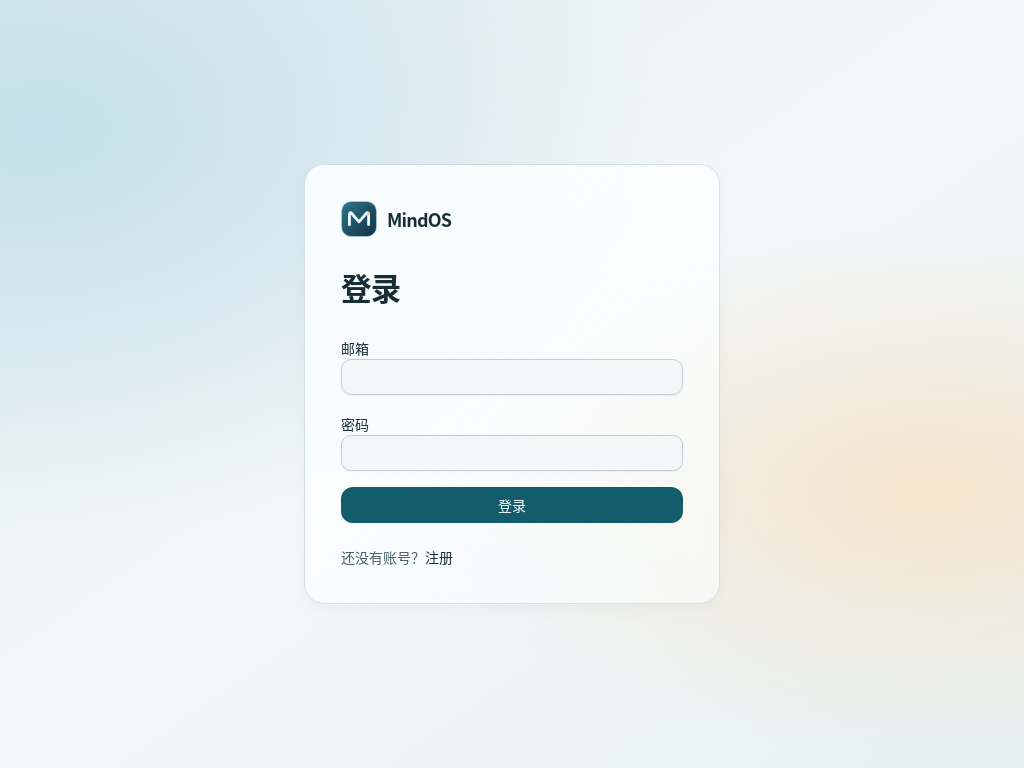
Test: 登录、注册与路由守卫 › 登录成功后回到原来要去的页面
Type "alice@example.com" into the field labelled "邮箱" at (512, 377), box [341,359,683,395]
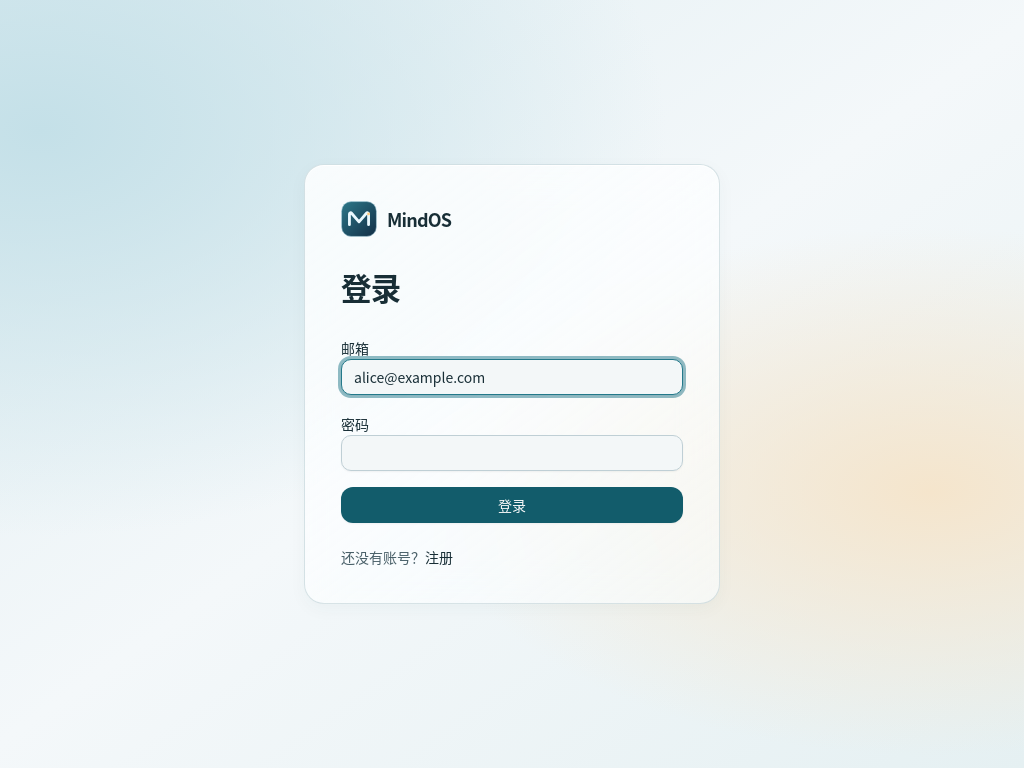
Type "password-123" into the password field labelled "密码" at (512, 453), box [341,435,683,471]
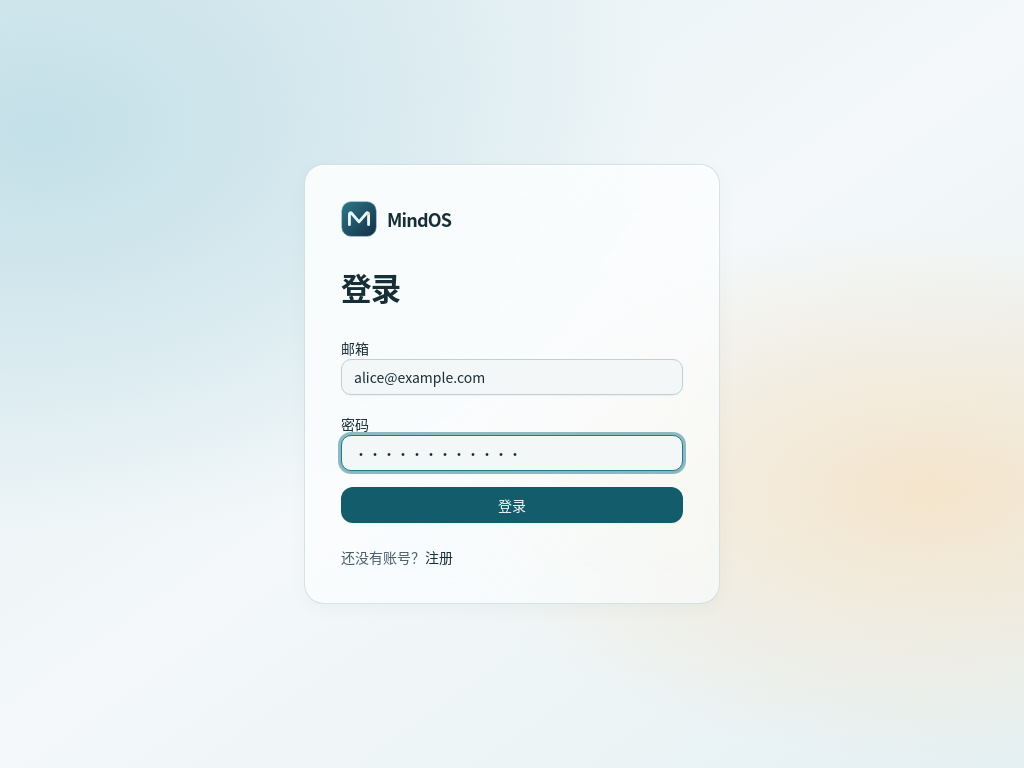
Click the button "登录" at (512, 505), box [341,487,683,523]
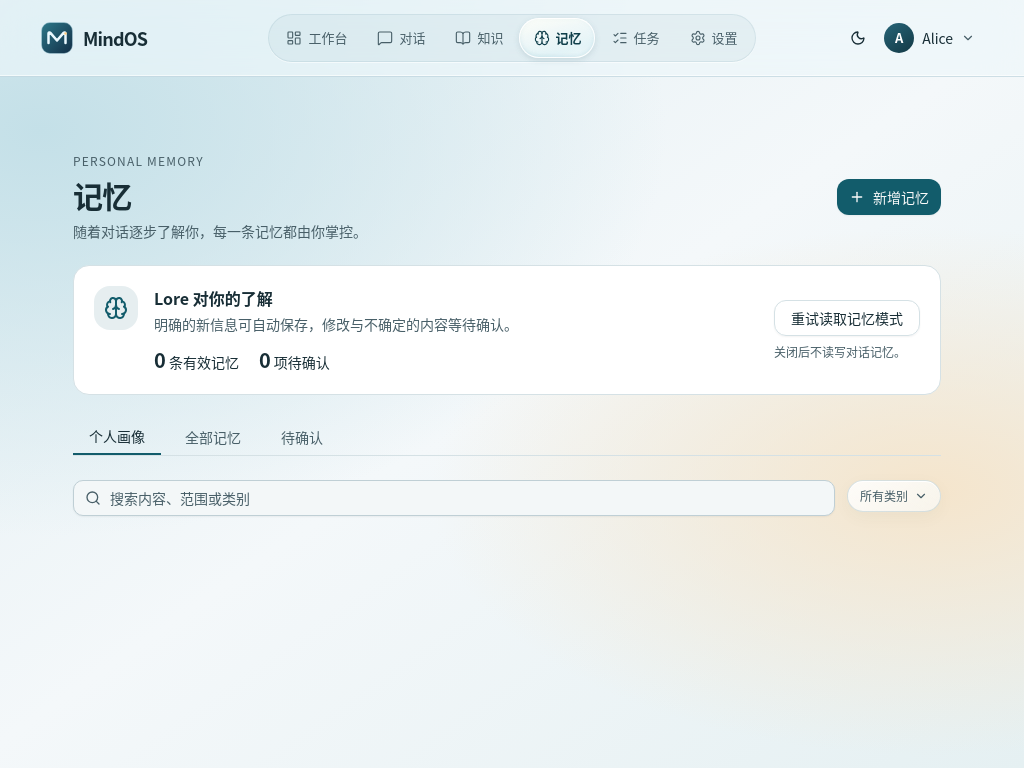
Now the heading "记忆" is shown, box [73,173,132,217]
